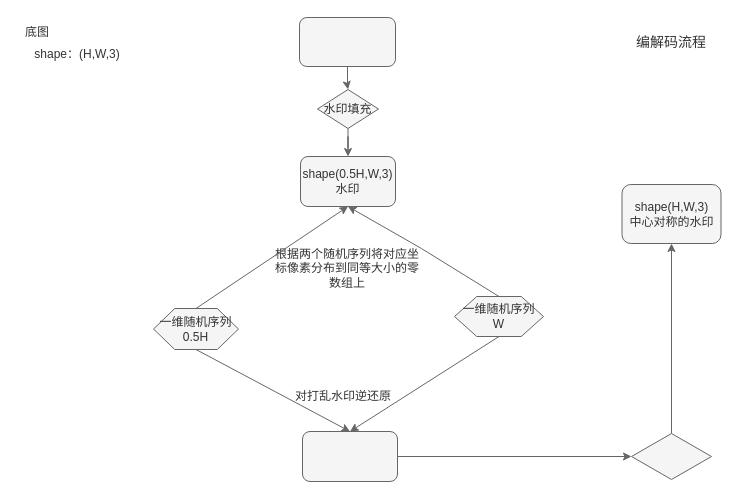
Some shapes in this 744 by 499 pixel diagram are drawn without their labels. Each missing label, with the box of its shape:
shape(0.5H,W,3)被打乱水印: (302, 430, 398, 482)
shape(0.5H,W,3)零数组: (298, 16, 396, 66)
对称填充: (630, 432, 712, 480)
